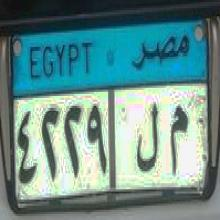2: (39, 102, 60, 186), (63, 104, 82, 180)
4: (15, 107, 38, 186)
9: (86, 103, 108, 180)
laam: (134, 98, 160, 175)
meem: (166, 100, 188, 174)
